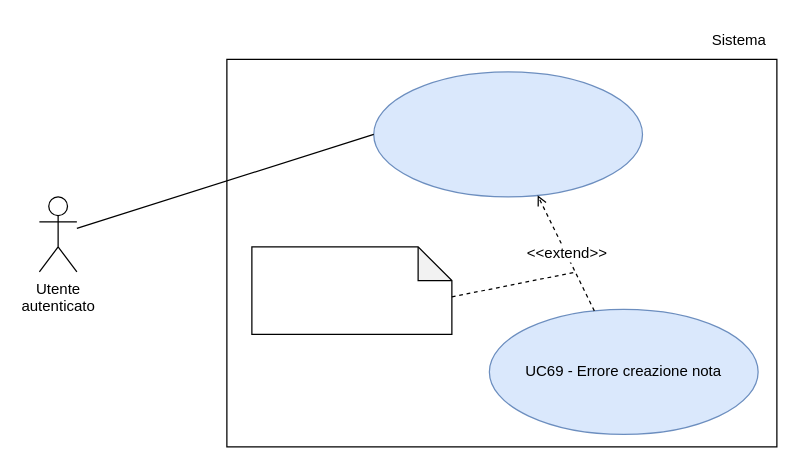
This 799x469 diagram has some shape labels left out. Here are the shapes that lost their labels. From the top down, the centre of each, then its label:
At (507,134): "UC68.2 - Creazione nota nel database".
At (351,290): "Condizione La creazione della nota nel database fallisce".
